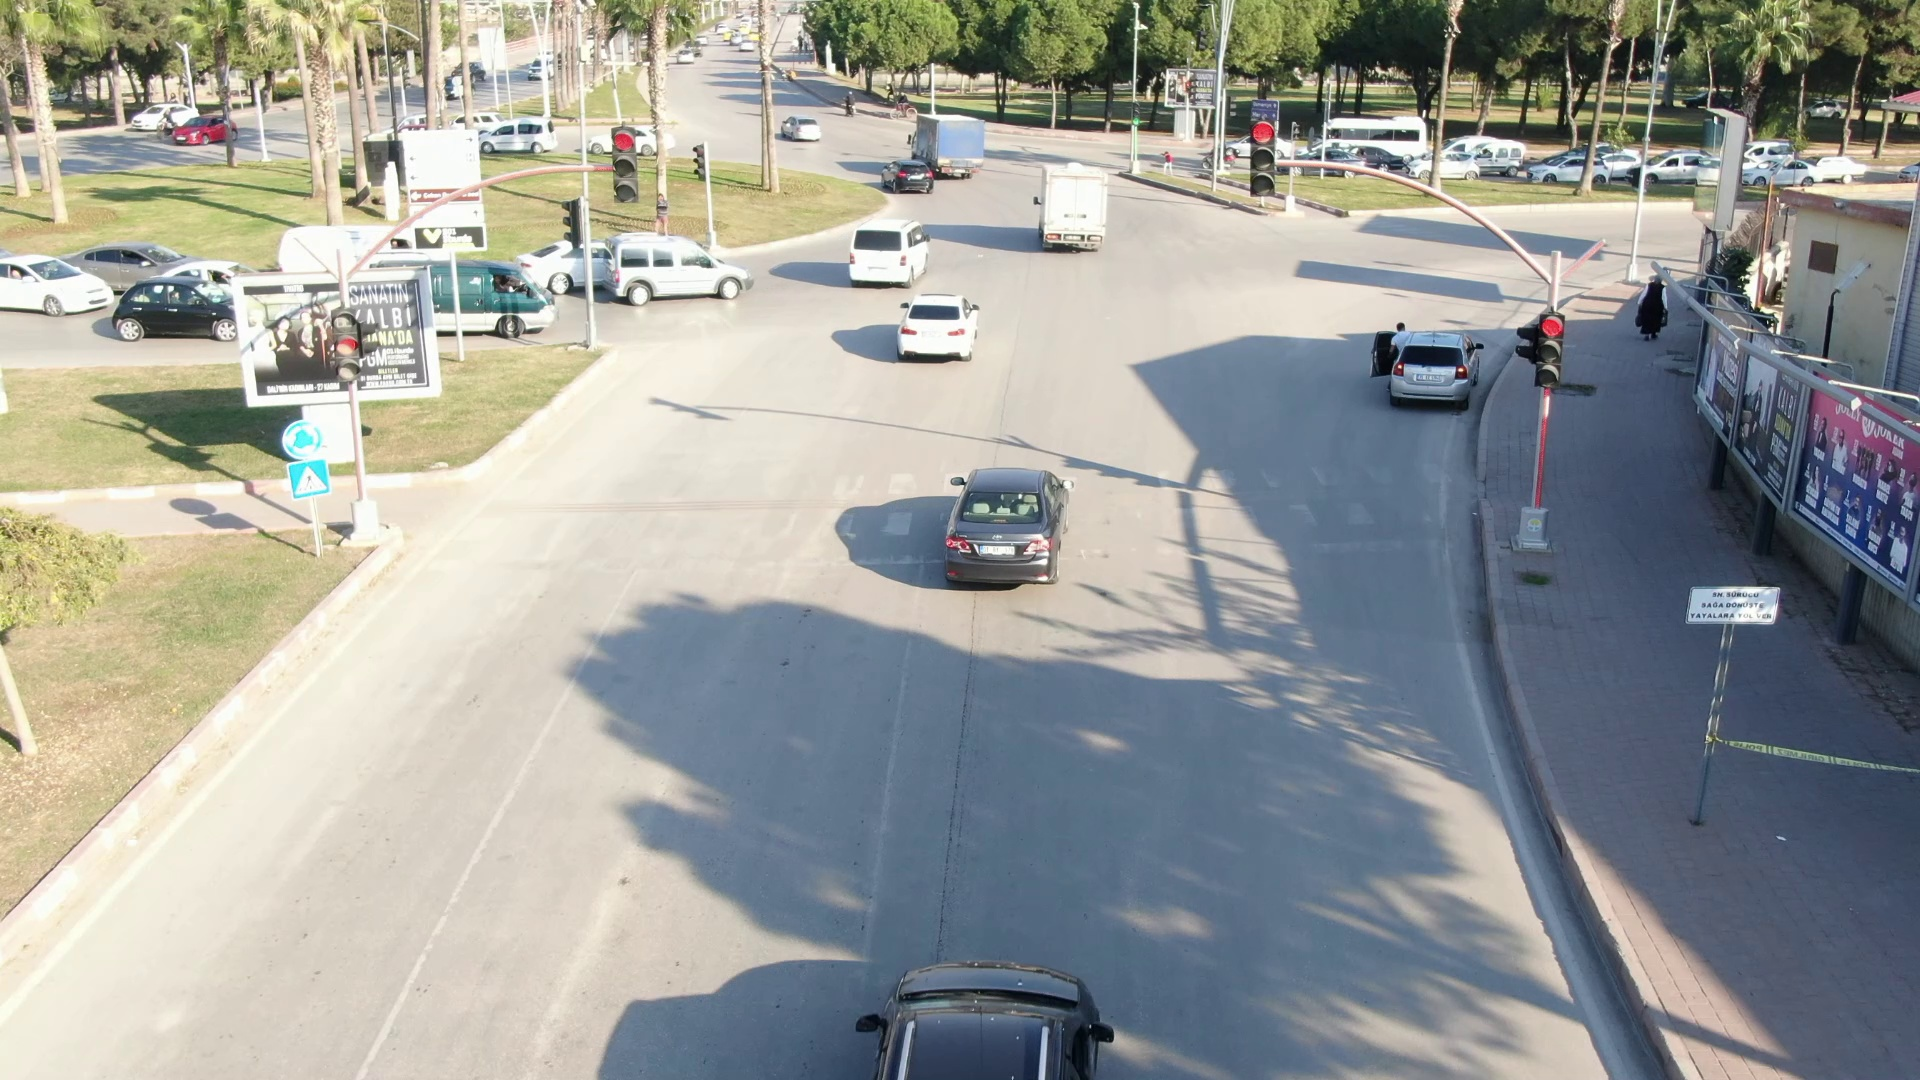car: (926, 449, 1089, 600), (597, 228, 763, 311), (1023, 153, 1123, 264), (1, 246, 123, 322), (887, 287, 992, 371), (1388, 333, 1489, 412), (844, 210, 940, 290), (169, 111, 253, 154), (874, 154, 936, 200)
person: (1629, 270, 1686, 347)
